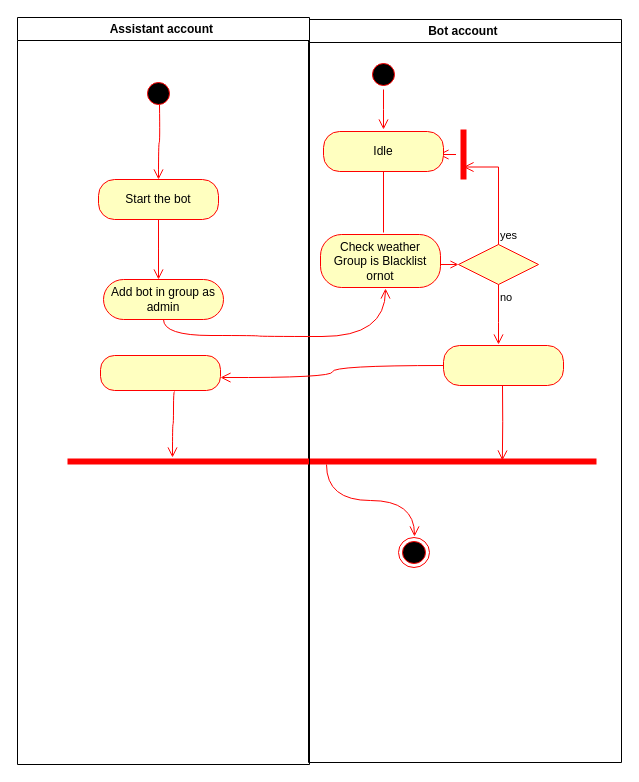
The diagram is 639 pixels wide and 782 high, and some of its shapes have lost their labels. Each missing label, with the box of its shape:
Is Blacklist?: (458, 244, 538, 284)
Join the group: (442, 344, 564, 386)
Send commands: (100, 354, 220, 390)
